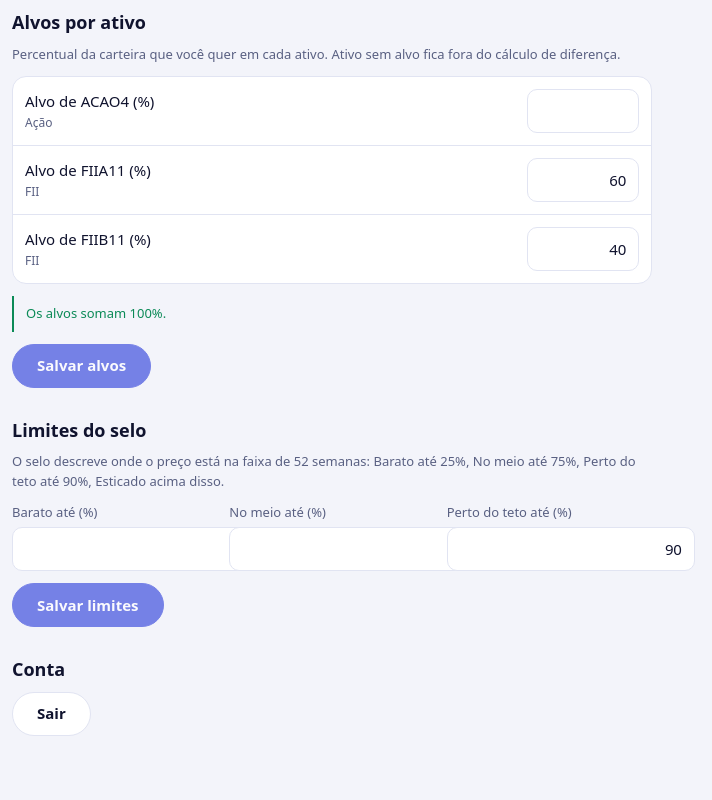
it: Configurações: limites do selo › valor abc num limite é recusado (vazio não vira 0)
Replace the text in the field labelled "Barato até (%)" with "abc": (136, 549) [12,527,260,571]
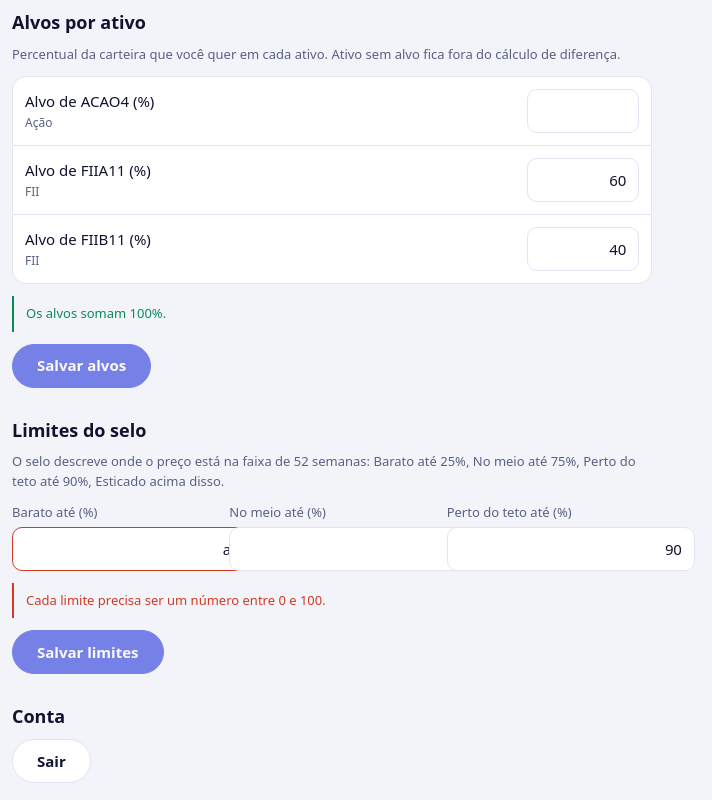
Expected: the button "Salvar limites" is disabled, [12,630,164,674]
Result: the message "Cada limite precisa ser um número entre 0 e 100." is shown at [12,583,652,618]
